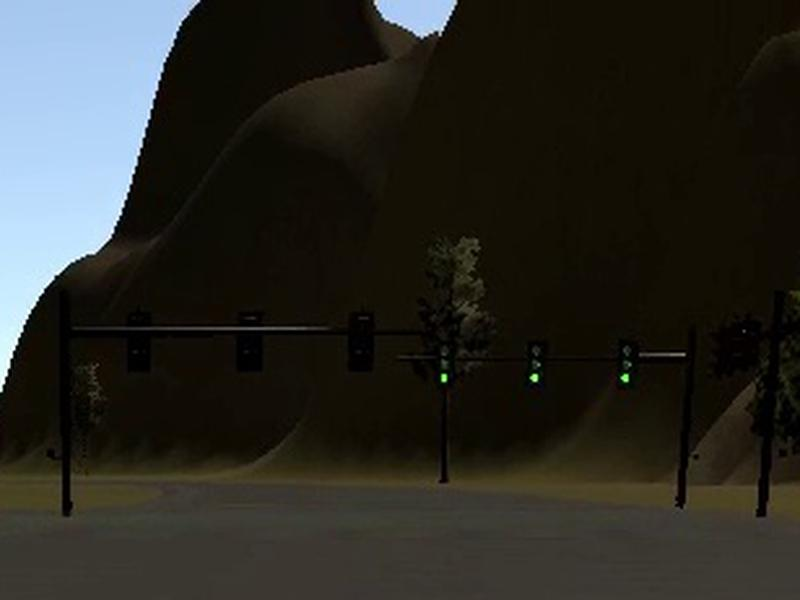Green: (615, 337, 638, 389), (524, 340, 546, 387), (435, 342, 454, 388)
